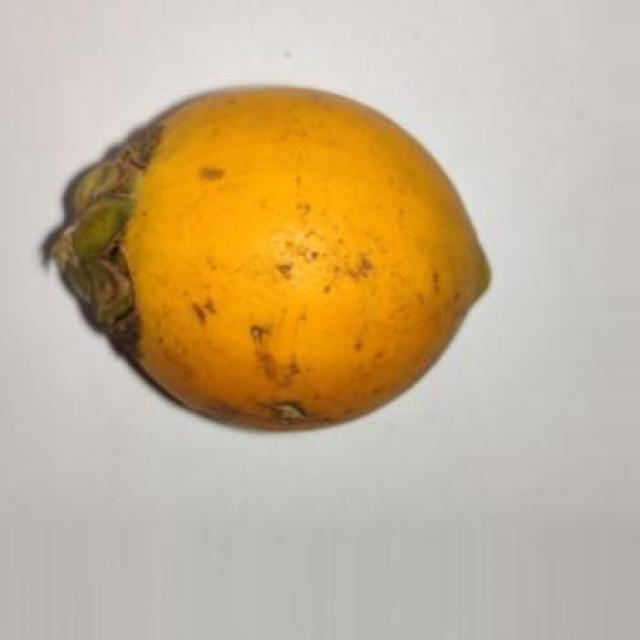good: (53, 86, 494, 432)
